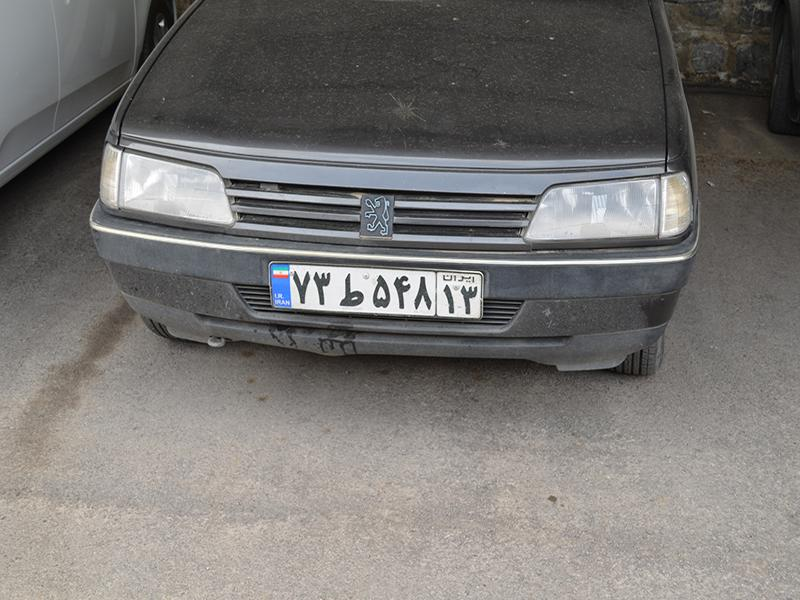Plate: (272, 256, 492, 319)
